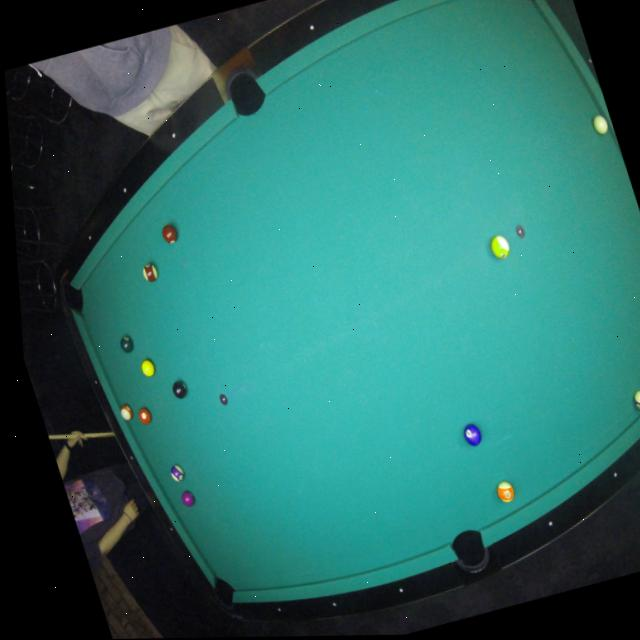cue ball: (589, 112, 613, 137)
